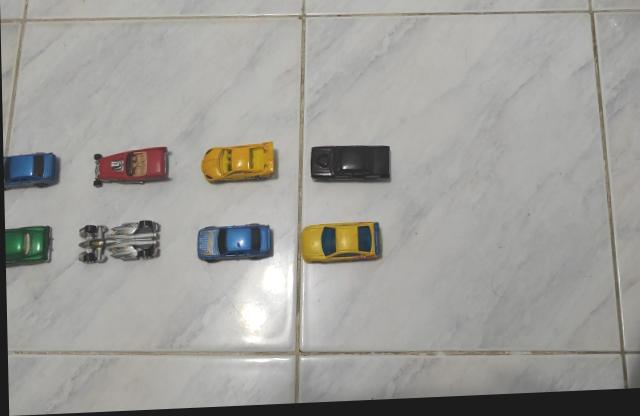01_FORD: (309, 148, 390, 188)
02_OZSOME: (297, 225, 381, 268)
03_V8: (91, 147, 171, 190)
04_MERZEDES: (193, 227, 273, 267), (3, 152, 59, 191)
05_DC121: (76, 221, 160, 267)
06_MASERATI: (4, 225, 52, 268)
07_RHLTURBO: (198, 144, 275, 188)
